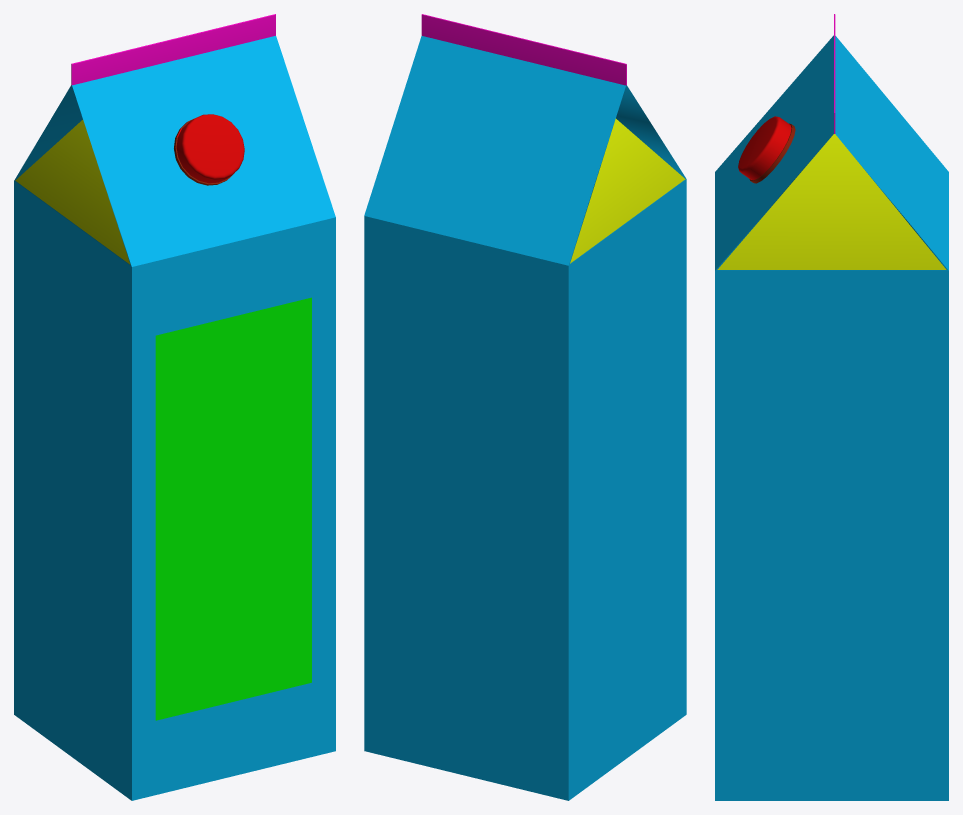
Rendered from MilkCarton.fbx.
The picture shows the model from 3 angles, left to right: view 1: azimuth 30°, elevation 25°; view 2: azimuth 150°, elevation 25°; view 3: azimuth 270°, elevation 25°; orthographic projection.
Visible parts, largest first — view 1: MilkCarton; view 2: MilkCarton; view 3: MilkCarton.
Boxes of the visible parts, x1,y1,x2,y2 form: MilkCarton: [14, 14, 335, 800]; MilkCarton: [364, 14, 686, 800]; MilkCarton: [715, 14, 948, 800].
Bounding box in the file's own units: 100 × 325 × 100.
